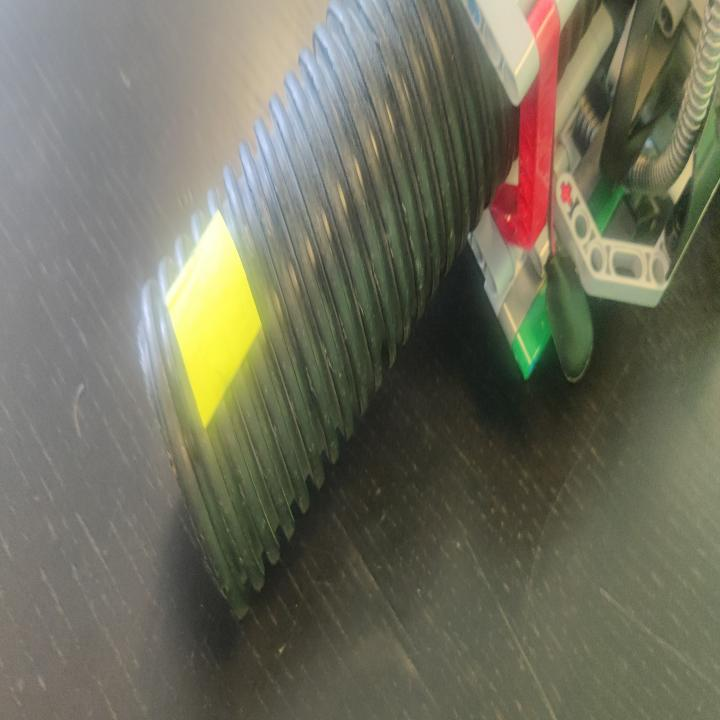robot-front: (144, 2, 487, 590)
